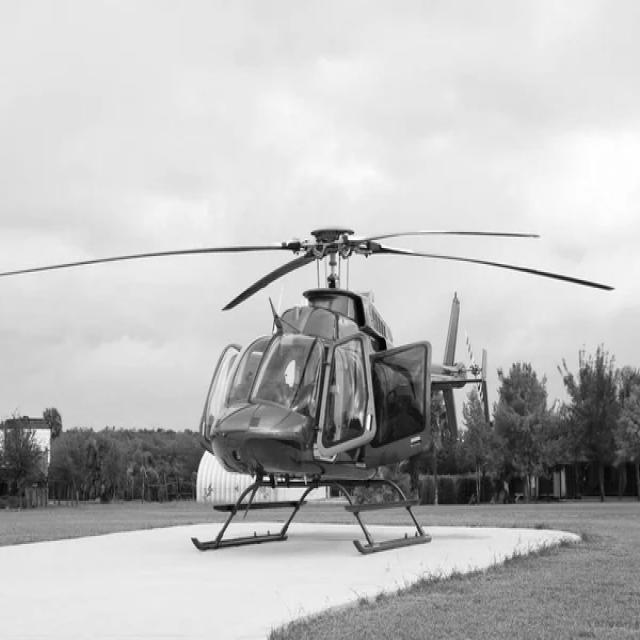Helicopter: (81, 227, 613, 555)
